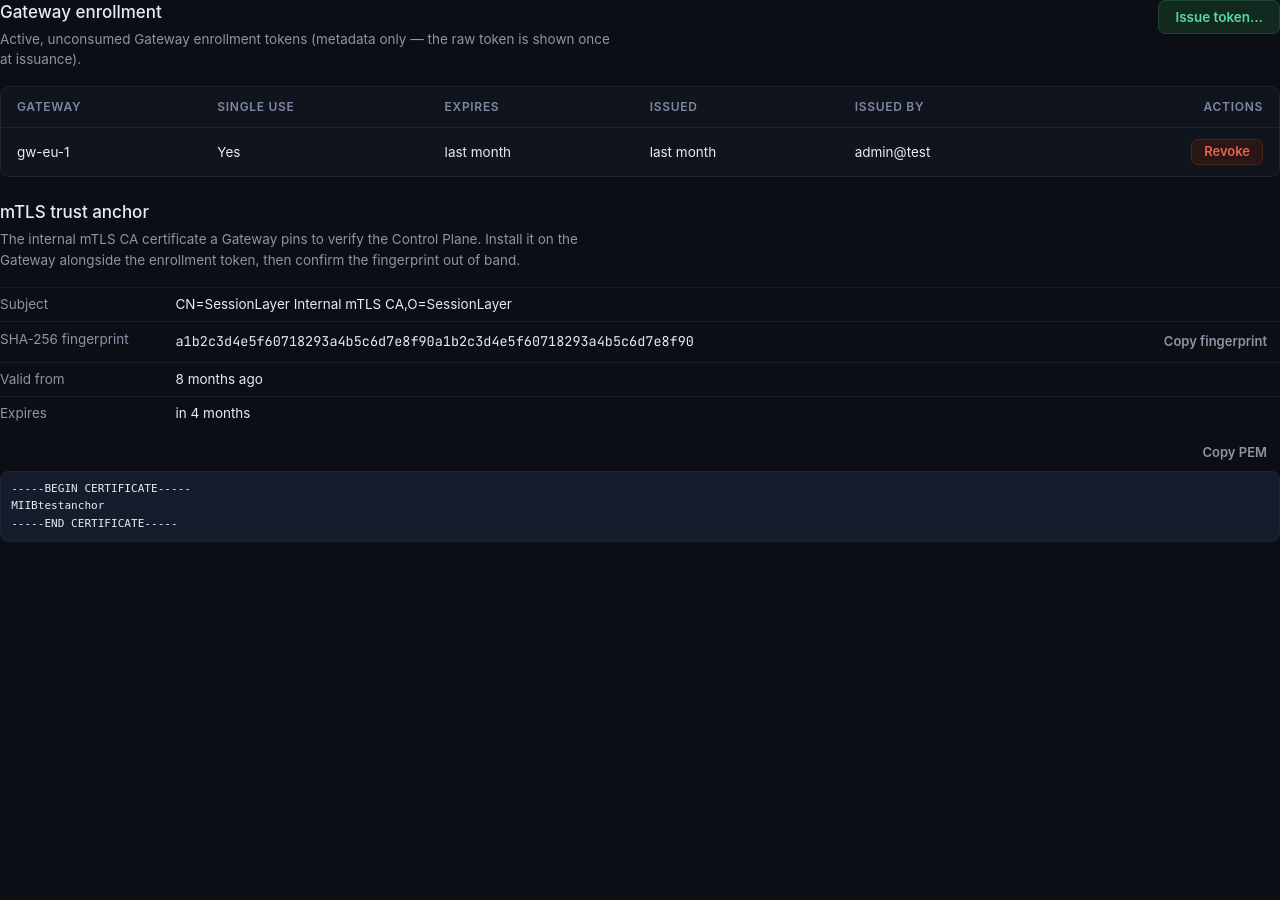
Test: GatewayEnrollmentTokenList › treats a repeat revoke as success (idempotent)
Expected: the text "gw-eu-1" is shown, [1, 128, 201, 176]
Click the button "Revoke".
click(1227, 152)  # box [1191, 139, 1263, 165]
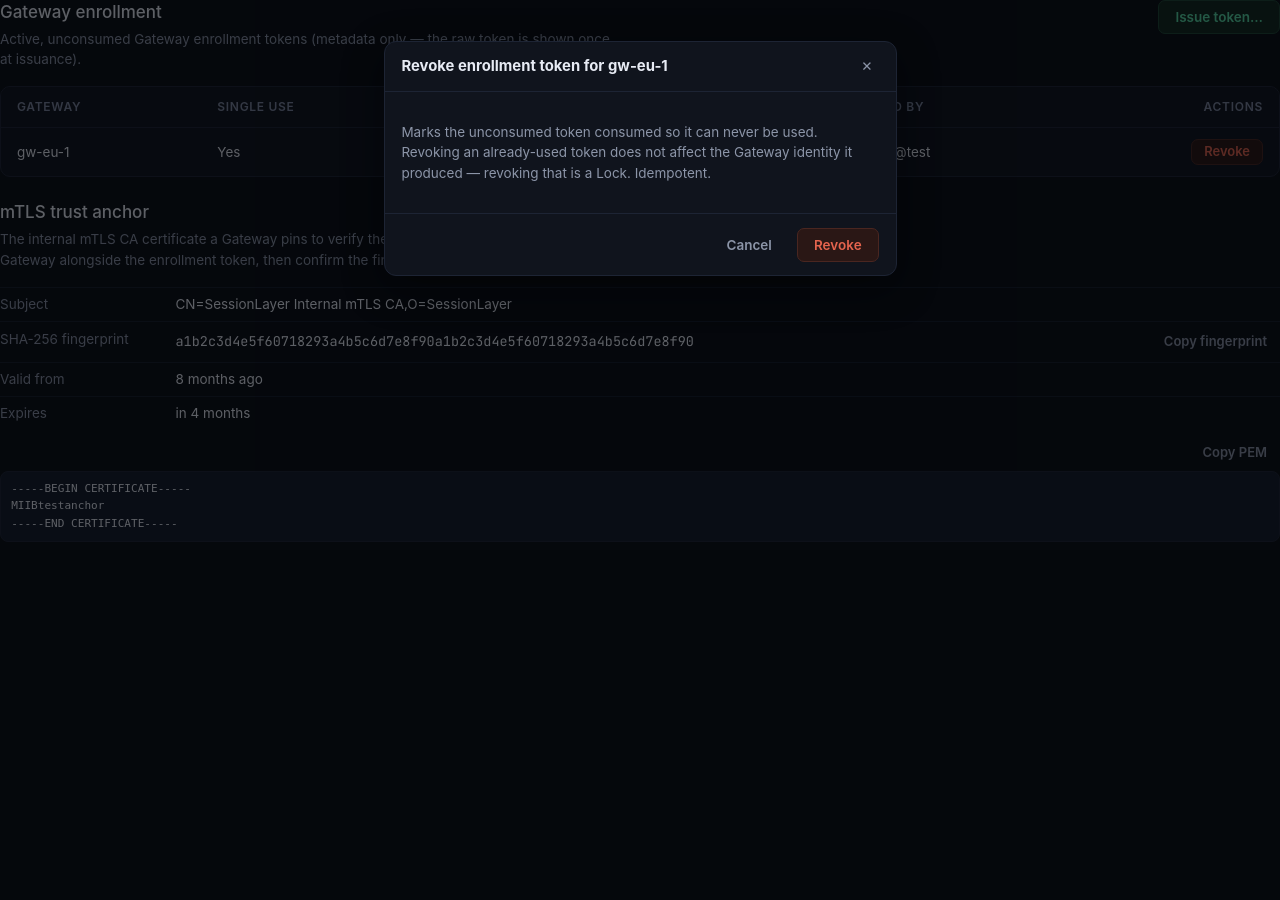
Click the button "Revoke".
click(838, 245)  # box [797, 228, 879, 262]
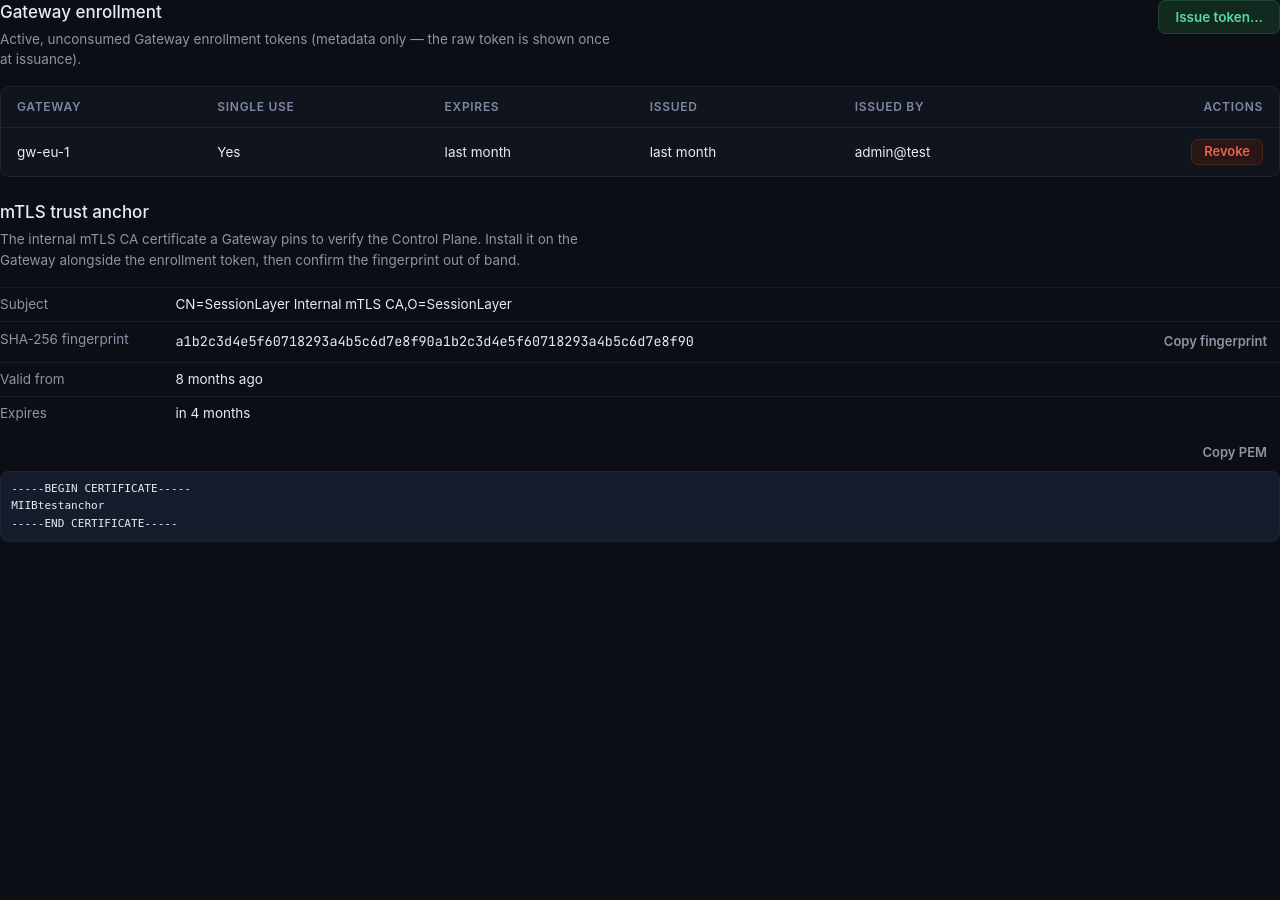
Now the dialog is gone
Click the button "Revoke".
click(1227, 152)  # box [1191, 139, 1263, 165]
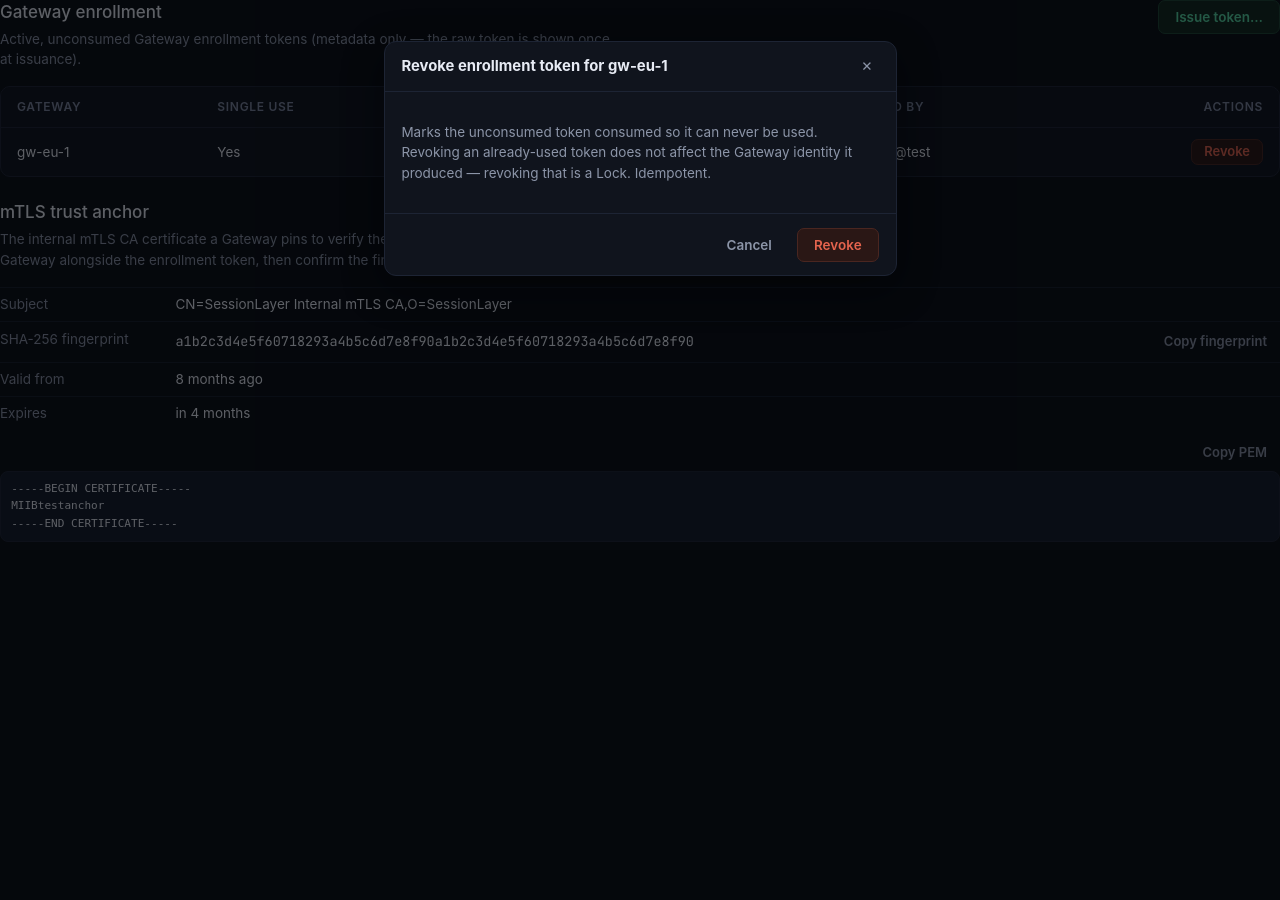
Click the button "Revoke".
click(838, 245)  # box [797, 228, 879, 262]
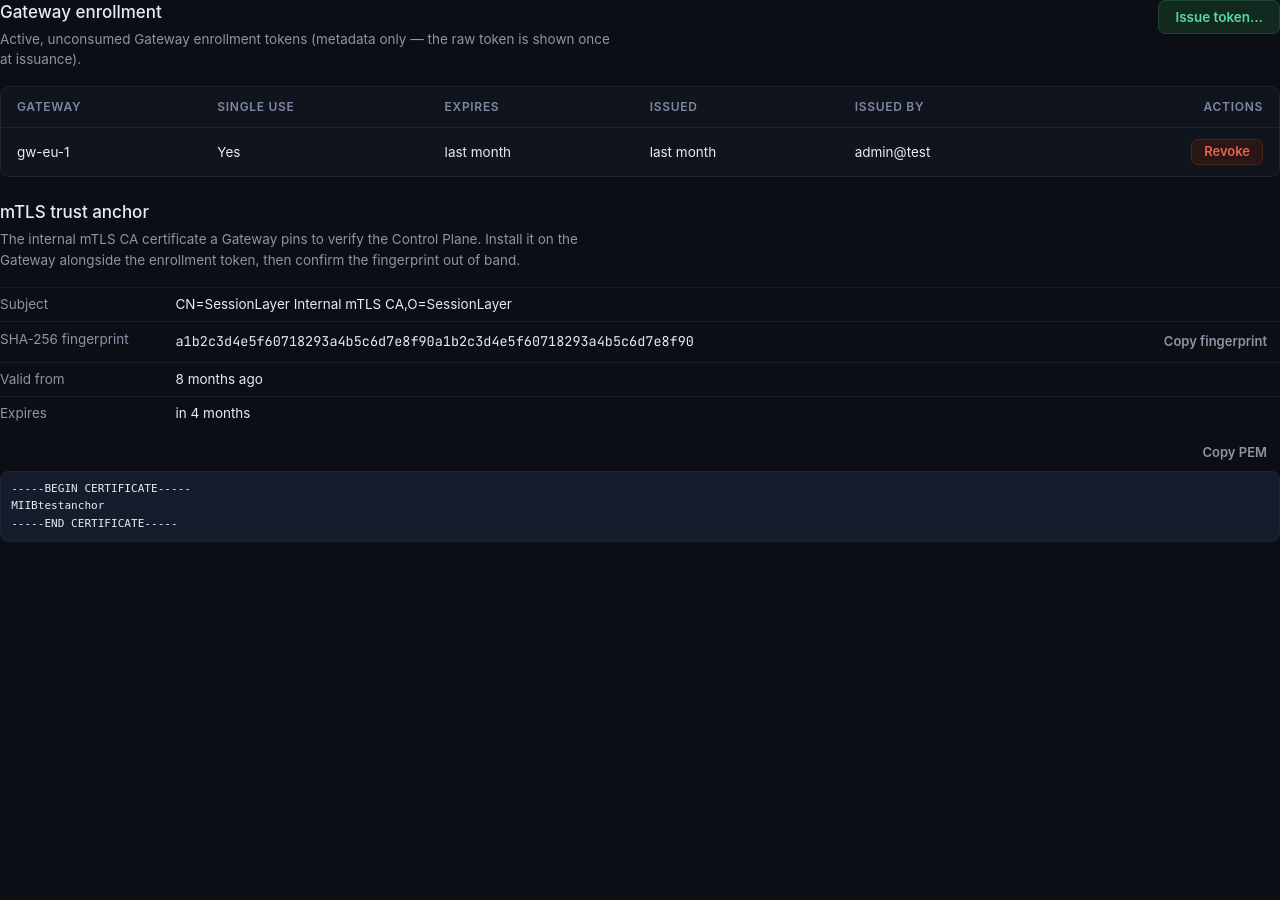
Now the dialog is gone
